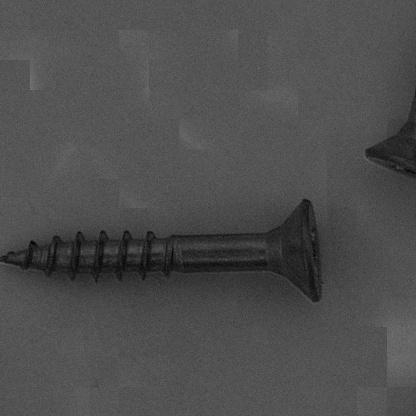metal: (1, 195, 325, 304)
